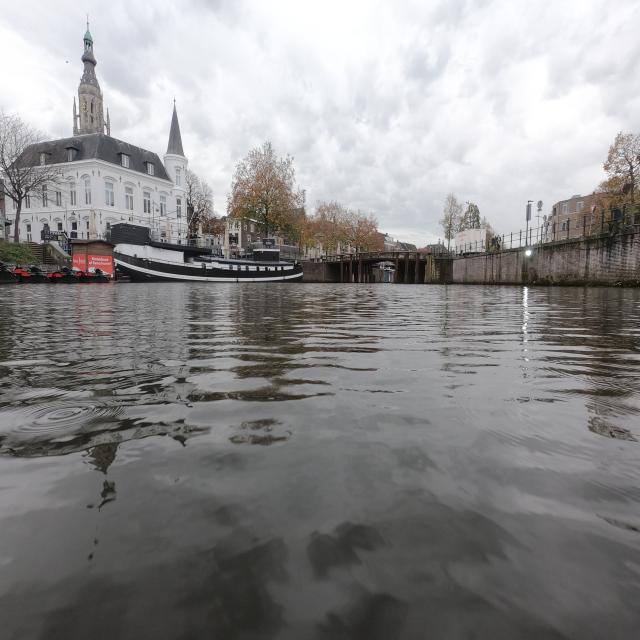boat: (132, 250, 302, 278), (48, 267, 79, 284), (76, 268, 110, 283), (20, 267, 48, 283), (0, 261, 20, 283)
grass: (2, 238, 38, 266)
sky: (92, 8, 638, 244), (2, 4, 80, 132)
tree: (0, 111, 59, 243), (227, 141, 302, 235), (302, 202, 384, 256), (596, 132, 640, 208), (439, 193, 462, 249)
wall: (444, 228, 638, 286)
water: (0, 283, 640, 640)
